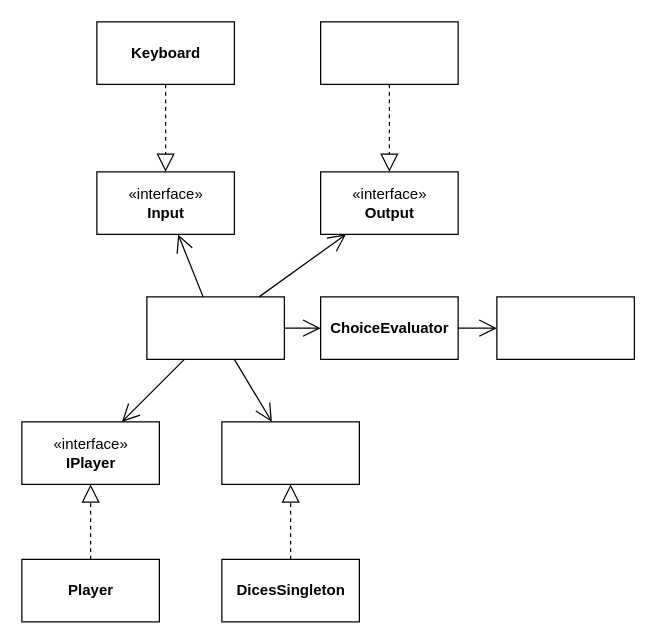
This 656x644 diagram has some shape labels left out. Here are the shapes that lost their labels. From the top down, the centre of each, then its label:
At point 388,52: "Console".
At point 215,327: "Game".
At point 565,327: "Choice".
At point 290,452: "«interface» Dices".
